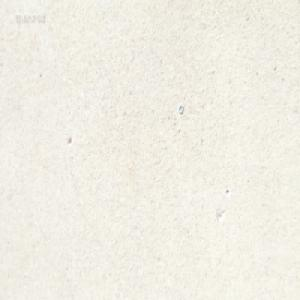Washer: (178, 103, 184, 114)
